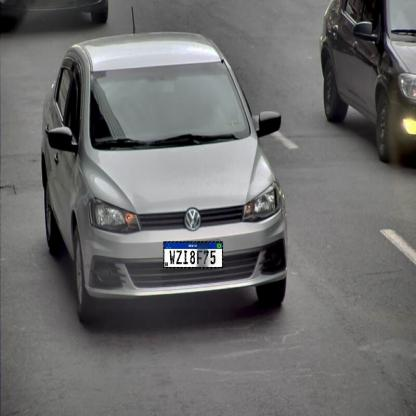PlacaM: (163, 242, 223, 269)
